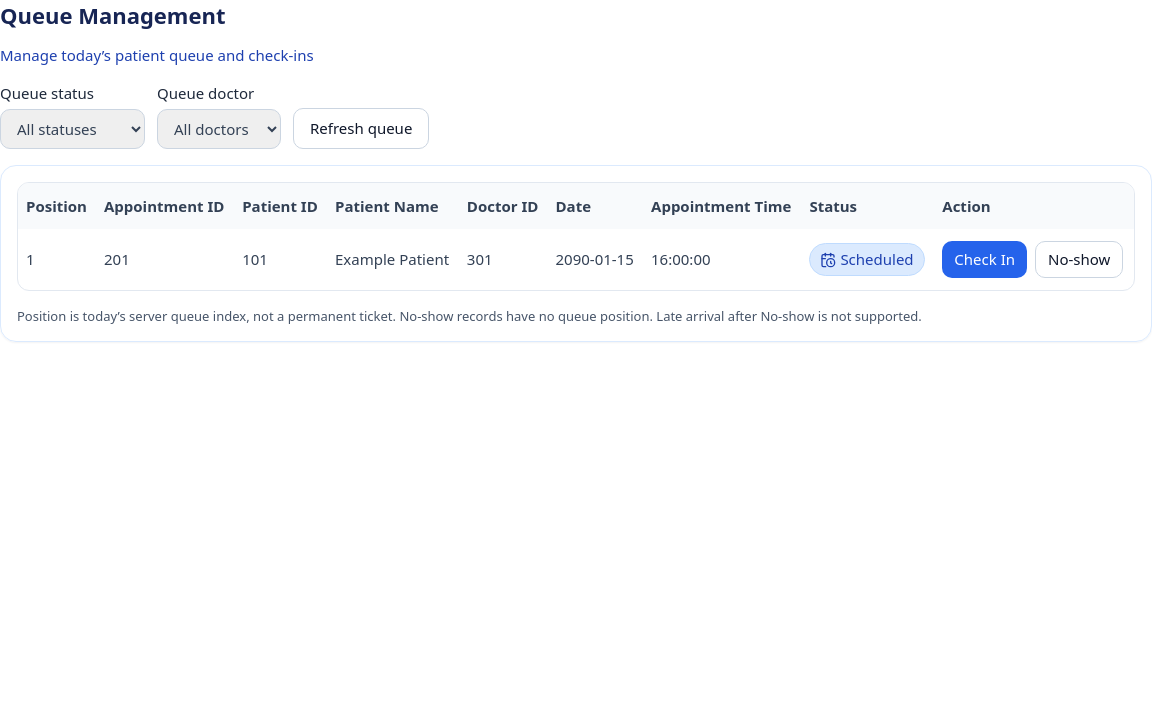
ADM-06 Admin queue actions › requires confirmation for no-show and refetches after concurrent failure
Click the button with aria-label "Mark appointment 201 no-show" at (1079,260), box [1035, 241, 1123, 278]
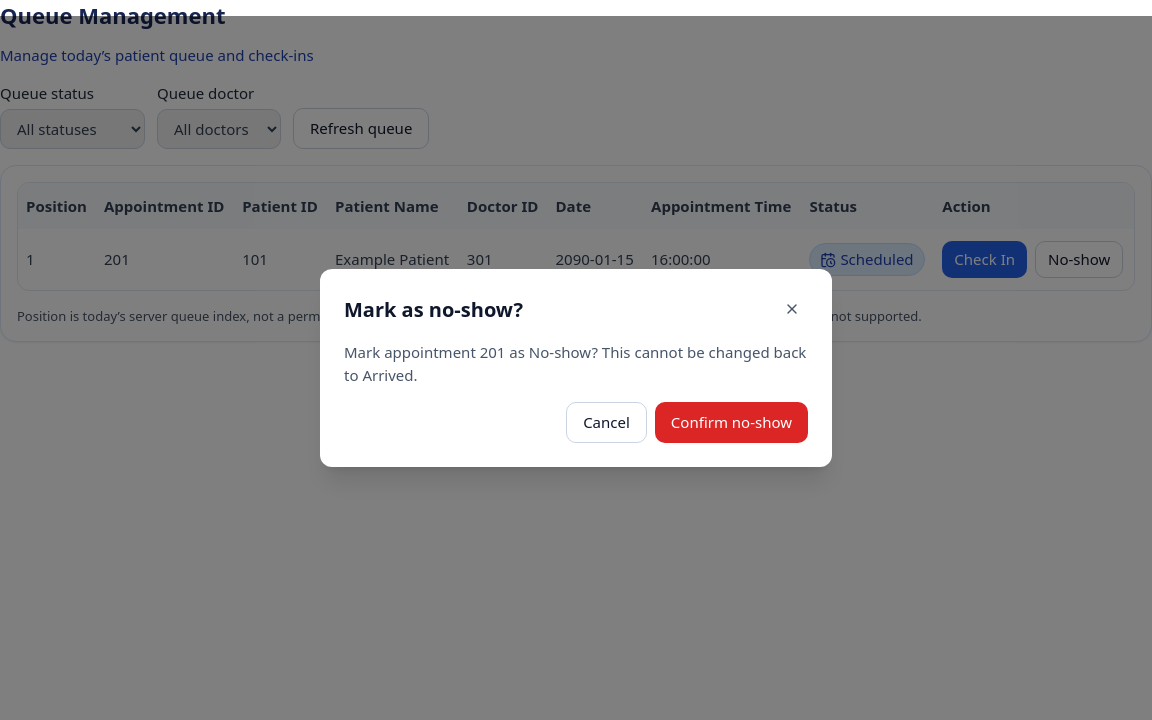
Click the button "Cancel" at (606,423), box [566, 402, 647, 443]
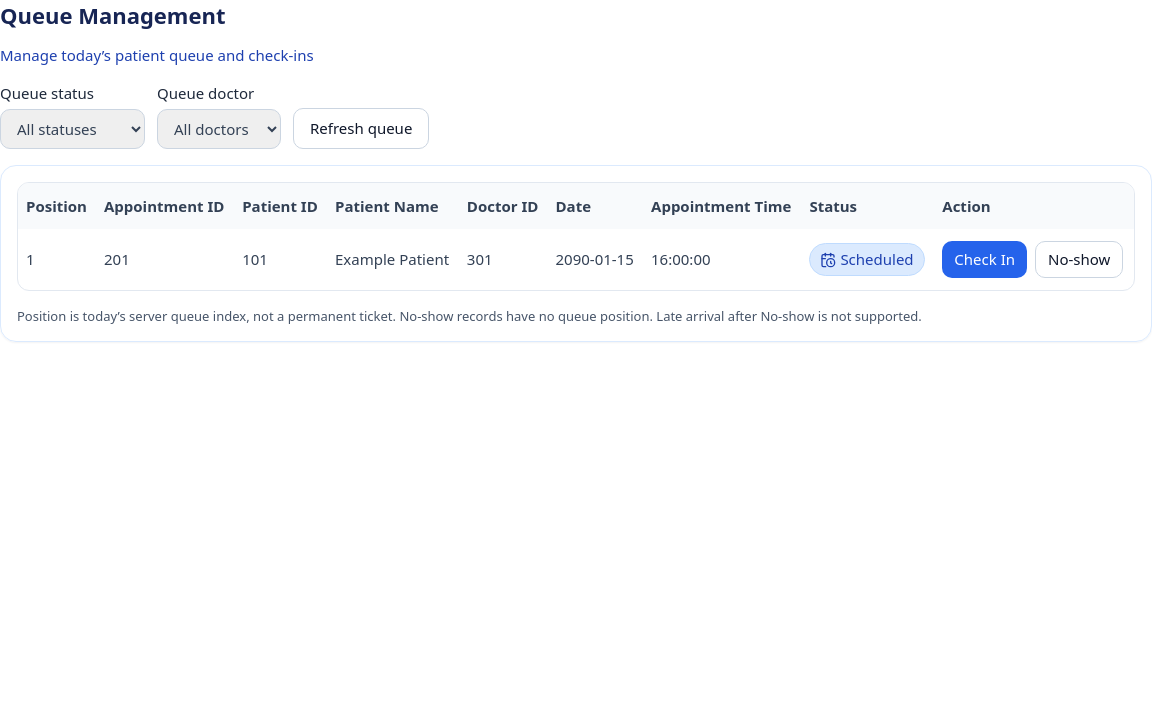
Click the button with aria-label "Mark appointment 201 no-show" at (1079,260), box [1035, 241, 1123, 278]
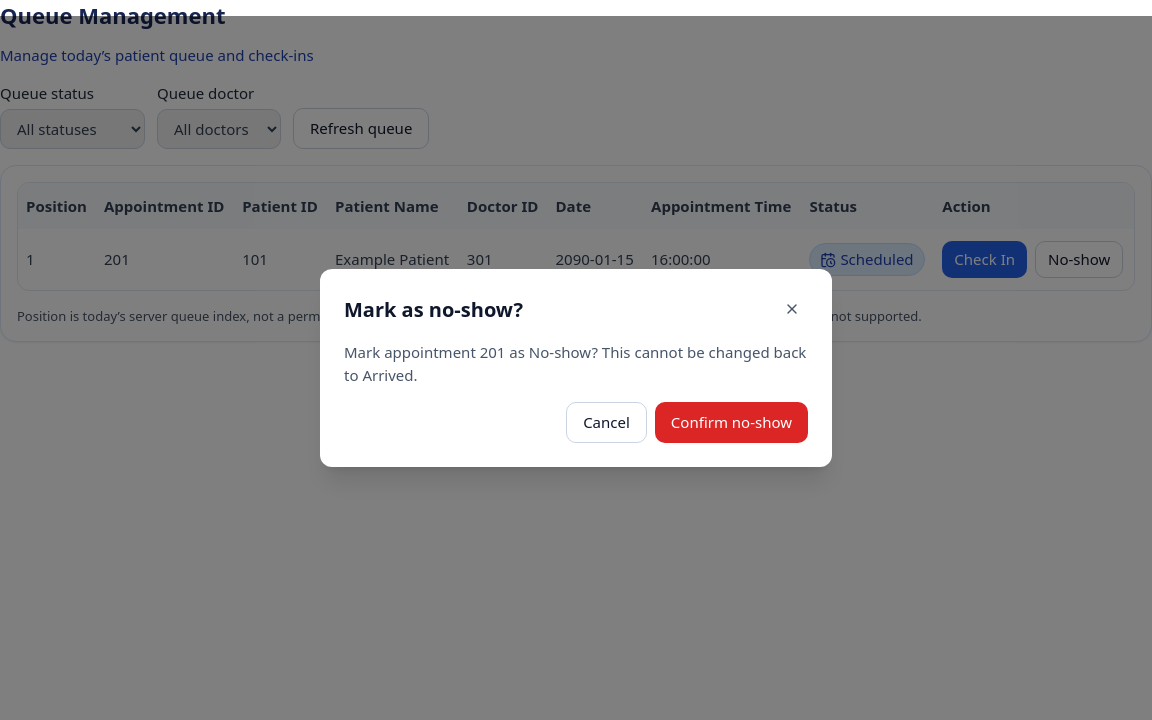
Click the button "Confirm no-show" at (731,423), box [655, 402, 808, 443]
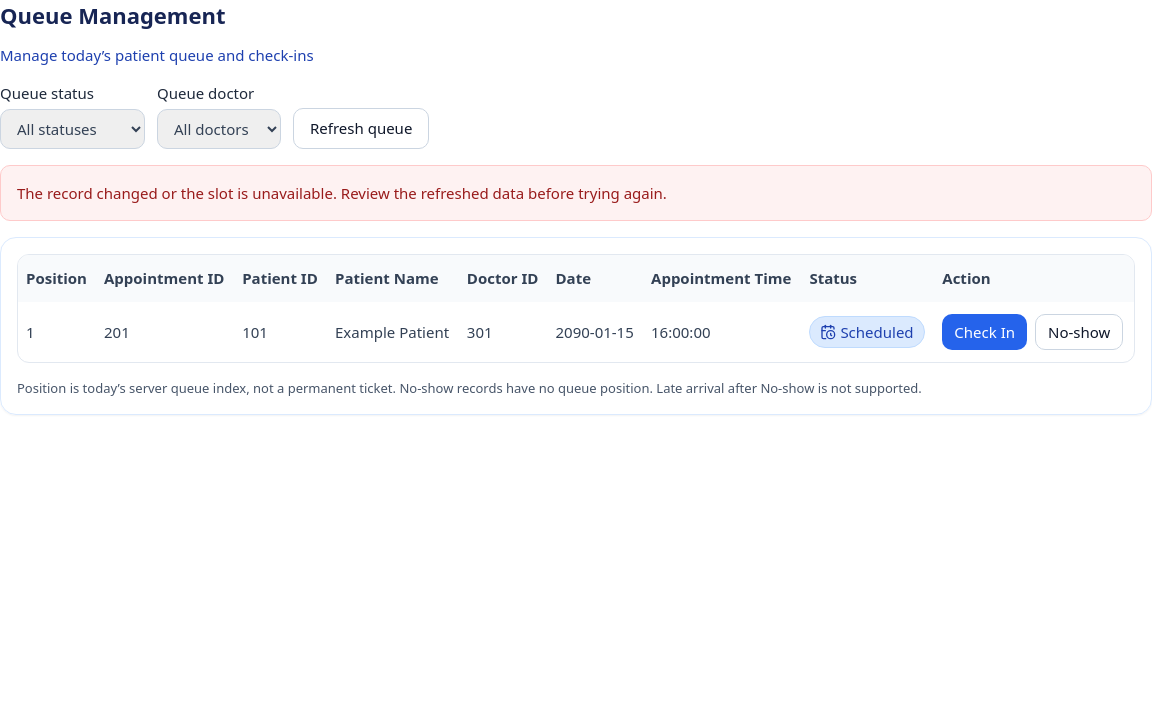
Expected: the button with aria-label "Check in appointment 201" is shown, [942, 314, 1027, 350]
Expected: the message shows "changed", [17, 183, 667, 203]
